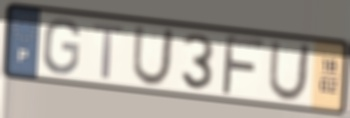3: (179, 32, 216, 92)
F: (219, 32, 267, 98)
G: (40, 17, 83, 77)
T: (91, 20, 126, 82)
U: (130, 24, 177, 89), (266, 40, 313, 104)
